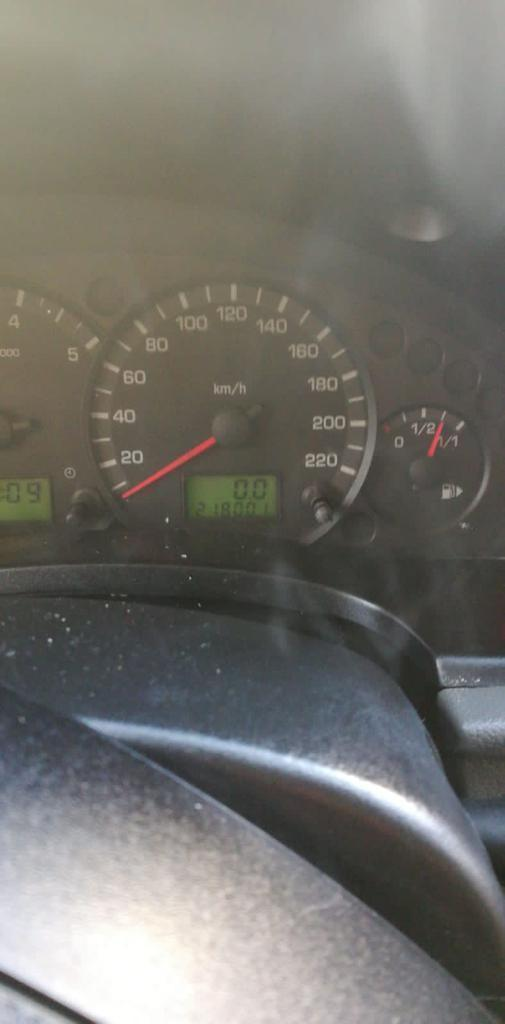,: (247, 493, 252, 500)
0: (253, 477, 267, 499), (234, 477, 247, 499), (245, 501, 256, 517), (233, 500, 243, 516)
1: (262, 502, 269, 518), (212, 502, 218, 518)
2: (194, 500, 205, 517)
8: (220, 501, 231, 518)
odometer: (182, 471, 282, 521)
